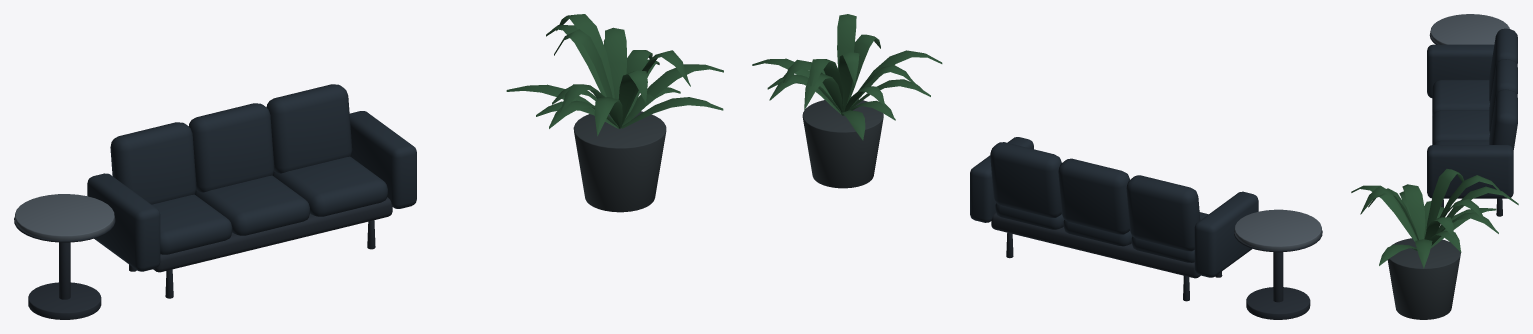
Rendered from tokyo-furniture.glb.
The picture shows the model from 3 angles, left to right: view 1: azimuth 30°, elevation 25°; view 2: azimuth 150°, elevation 25°; view 3: azimuth 270°, elevation 25°; orthographic projection. The views are drawn at different scales.
Parts seen in each view (by area): view 1: Individual tailored seat cushion, Sculpted agave leaf, Floating bench frame, Thrown ceramic planter, Honed stone side table; view 2: Individual tailored seat cushion, Sculpted agave leaf, Floating bench frame, Thrown ceramic planter, Honed stone side table; view 3: Individual tailored seat cushion, Sculpted agave leaf, Thrown ceramic planter, Honed stone side table, Floating bench frame.
Part boxes in pixels (x1=…): Individual tailored seat cushion: x1=87, y1=84, x2=416, y2=271; Sculpted agave leaf: x1=506, y1=14, x2=723, y2=136; Floating bench frame: x1=14, y1=197, x2=392, y2=319; Thrown ceramic planter: x1=573, y1=111, x2=666, y2=212; Honed stone side table: x1=15, y1=194, x2=114, y2=240; Individual tailored seat cushion: x1=970, y1=137, x2=1258, y2=277; Sculpted agave leaf: x1=752, y1=14, x2=942, y2=140; Floating bench frame: x1=991, y1=212, x2=1322, y2=319; Thrown ceramic planter: x1=802, y1=99, x2=883, y2=188; Honed stone side table: x1=1234, y1=209, x2=1321, y2=250; Individual tailored seat cushion: x1=1427, y1=28, x2=1517, y2=198; Sculpted agave leaf: x1=1351, y1=169, x2=1518, y2=268; Thrown ceramic planter: x1=1387, y1=238, x2=1460, y2=319; Honed stone side table: x1=1430, y1=14, x2=1509, y2=44; Floating bench frame: x1=1429, y1=33, x2=1502, y2=216.
Bounding box in the file's own units: 4.68 × 1.06 × 1.26.
